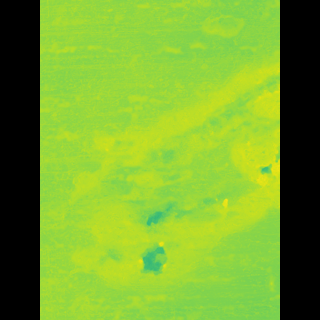Loch: (90, 61, 251, 319)
